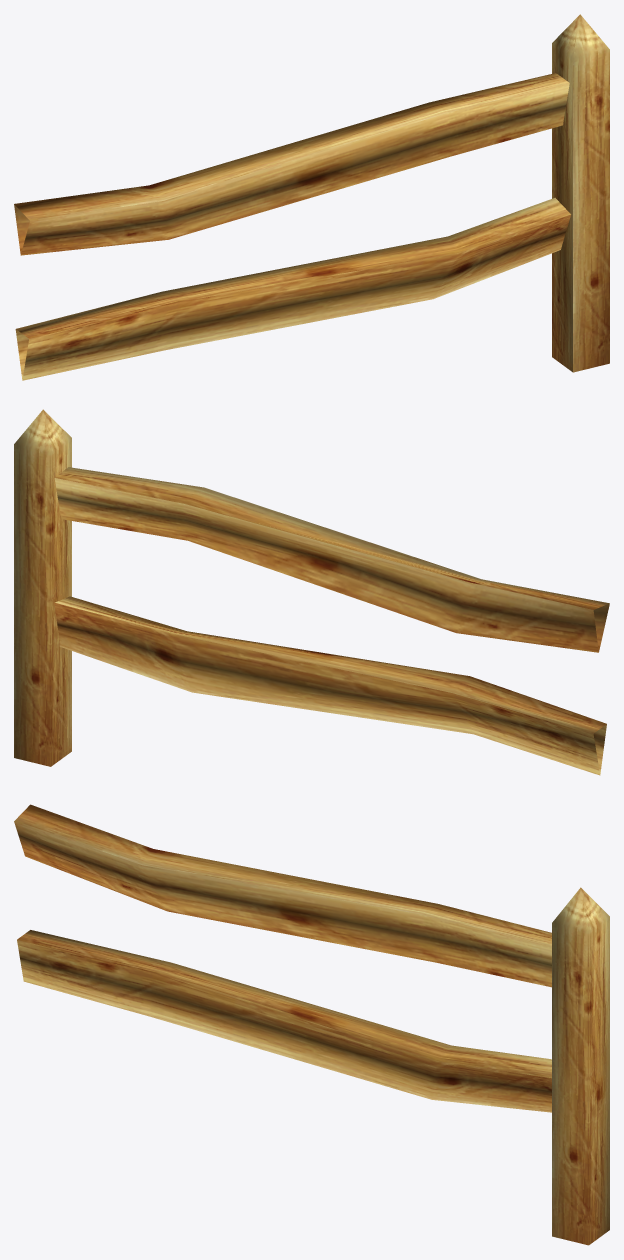
Rendered from elwynnwoodfence01.obj.
The picture shows the model from 3 angles, top to bottom: view 1: azimuth 30°, elevation 25°; view 2: azimuth 150°, elevation 25°; view 3: azimuth 330°, elevation 25°; orthographic projection.
Parts seen in each view (by area): view 1: elwynnwoodfence01; view 2: elwynnwoodfence01; view 3: elwynnwoodfence01.
Part boxes in pixels (x1,y1,x2,y2): elwynnwoodfence01: (14, 14, 609, 380); elwynnwoodfence01: (14, 409, 609, 775); elwynnwoodfence01: (14, 804, 609, 1245).
Bounding box in the file's own units: 4.3 × 2.46 × 0.3142.
1 material, 1 textured.
